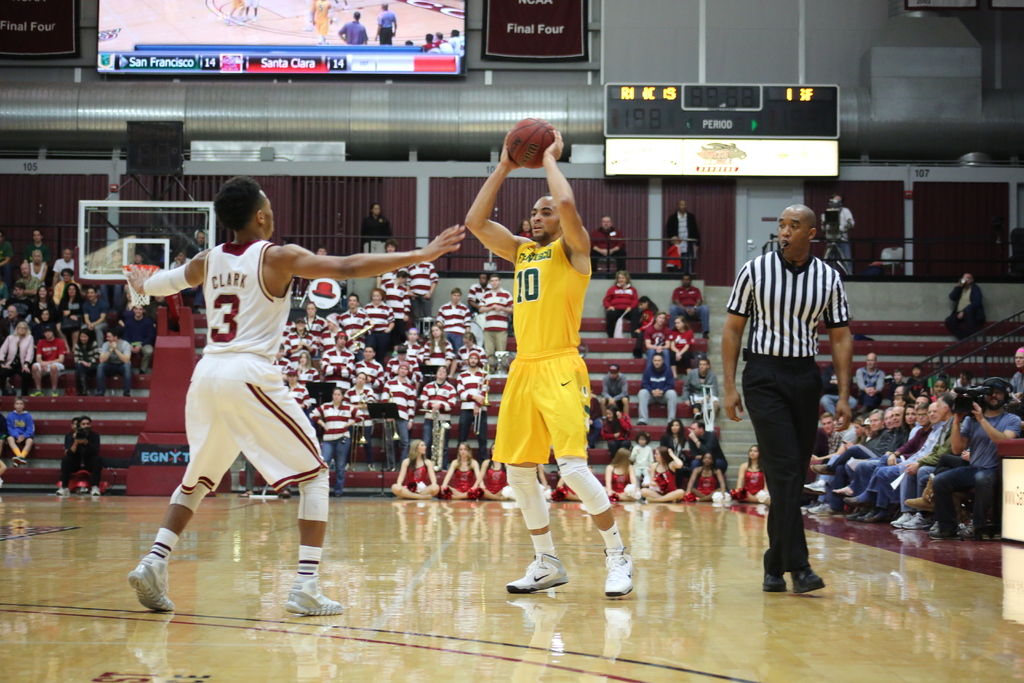Ball: (506, 119, 554, 168)
